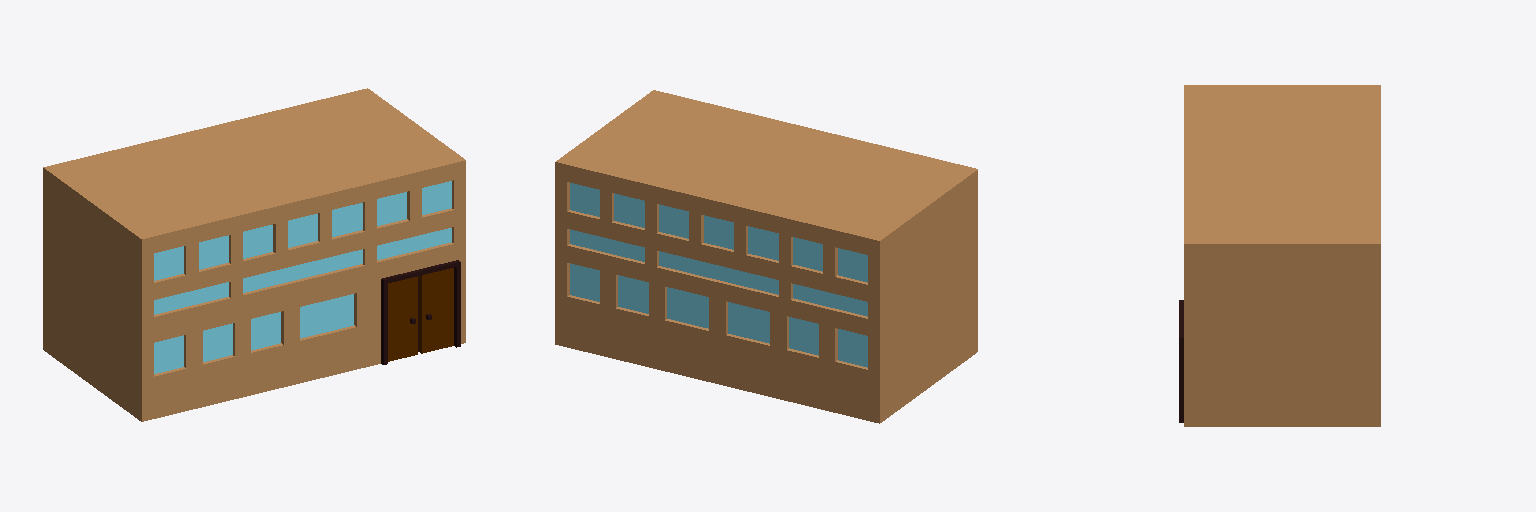
The picture shows the model from 3 angles: view 1: azimuth 30°, elevation 25°; view 2: azimuth 150°, elevation 25°; view 3: azimuth 270°, elevation 25°; orthographic projection.
Parts seen in each view (by area): view 1: object 1; view 2: object 1; view 3: object 1.
Part boxes in pixels (x1,y1,x2,y2): object 1: (43,88,465,421); object 1: (555,90,977,423); object 1: (1179,85,1380,426).
Bounding box in the file's own units: 8 × 4.3 × 4.3.
1 materials, 1 textured.